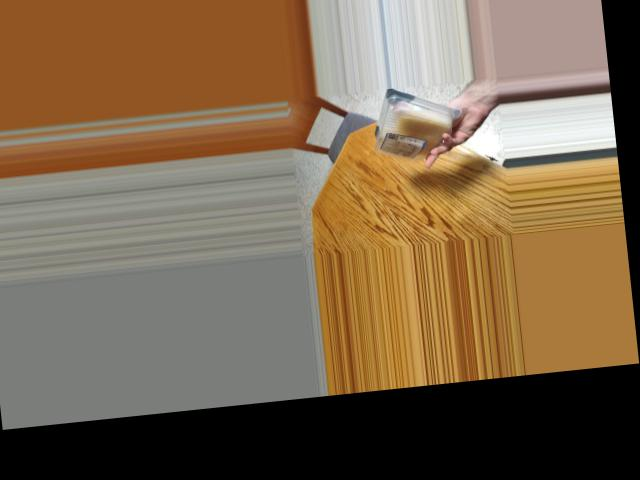cheese: (370, 88, 456, 163)
